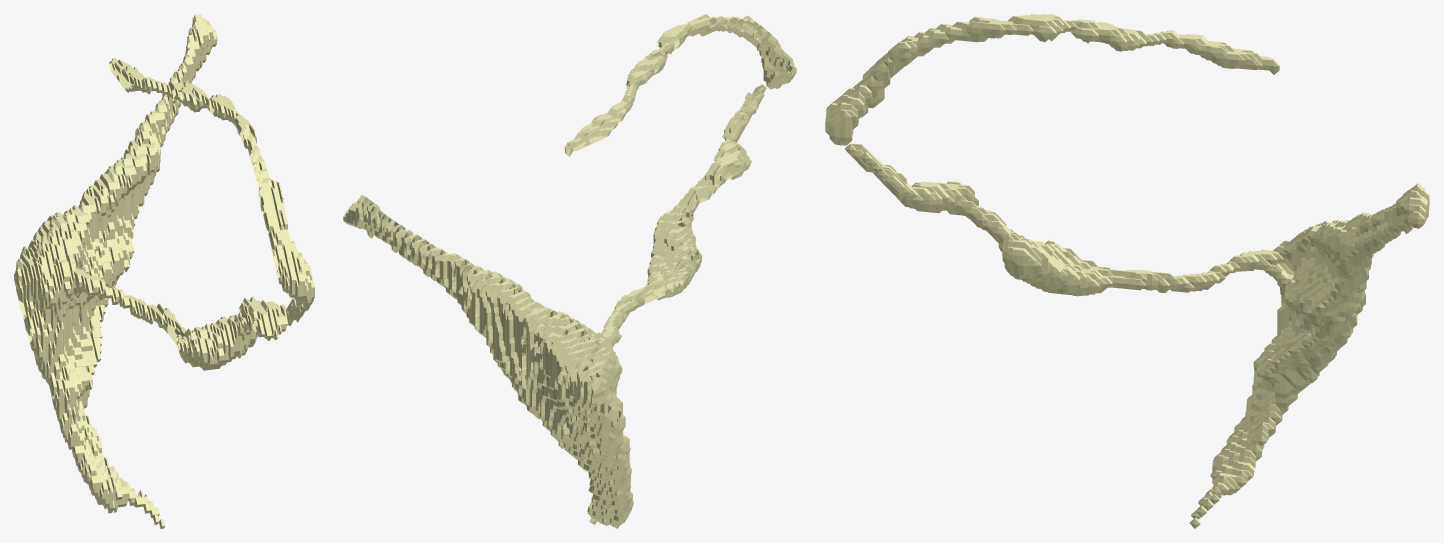
Rendered from SVV_IL2L.gltf.
The picture shows the model from 3 angles, left to right: view 1: azimuth 30°, elevation 25°; view 2: azimuth 150°, elevation 25°; view 3: azimuth 270°, elevation 25°; orthographic projection. The views are drawn at different scales.
Parts seen in each view (by area): view 1: IL2L; view 2: IL2L; view 3: IL2L.
Part boxes in pixels (left/top/right/bottom): IL2L: left=14, top=14, right=314, bottom=528; IL2L: left=343, top=14, right=796, bottom=528; IL2L: left=825, top=14, right=1429, bottom=528.
Bounding box in the file's own units: 33683 × 64622 × 70213.
